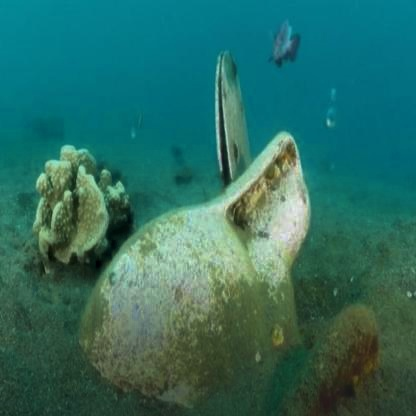misc: (82, 71, 330, 389)
